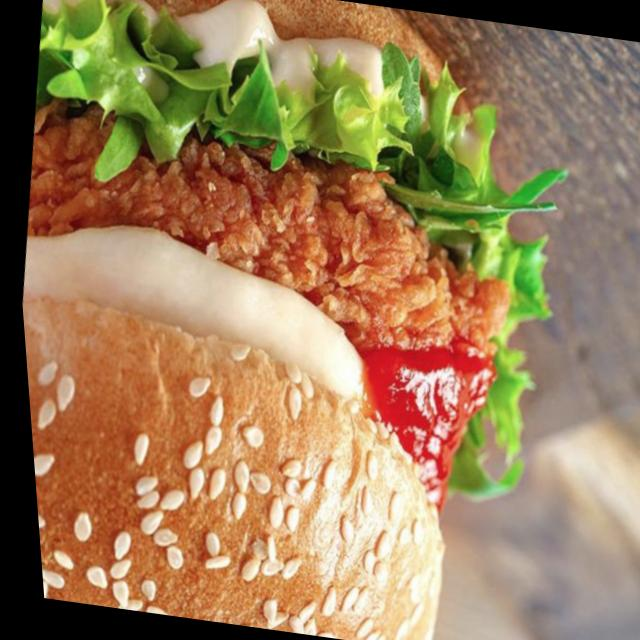burger: (0, 0, 568, 640)
